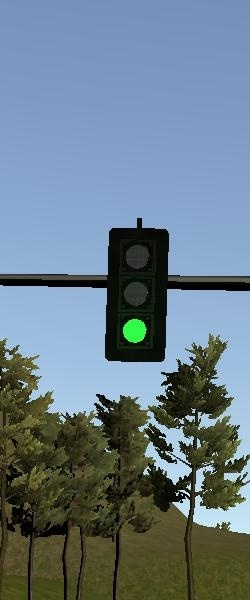Green: (105, 226, 166, 364)
